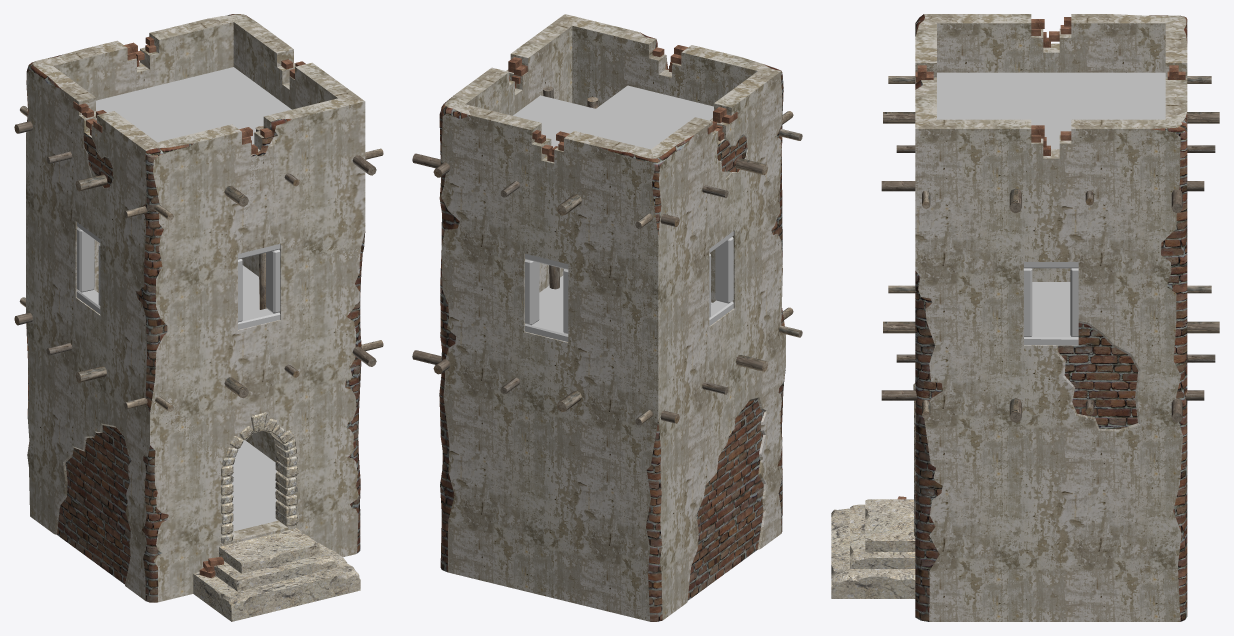
File: House_11.fbx
The picture shows the model from 3 angles, left to right: view 1: azimuth 30°, elevation 25°; view 2: azimuth 150°, elevation 25°; view 3: azimuth 270°, elevation 25°; orthographic projection. The views are drawn at different scales.
Parts seen in each view (by area): view 1: polySurface3116; view 2: polySurface3116; view 3: polySurface3116.
Part boxes in pixels (<box>): polySurface3116: <box>14,14,383,621</box>; polySurface3116: <box>412,14,802,621</box>; polySurface3116: <box>831,14,1219,621</box>.
Bounding box in the file's own units: 6.22 × 10 × 7.14.
